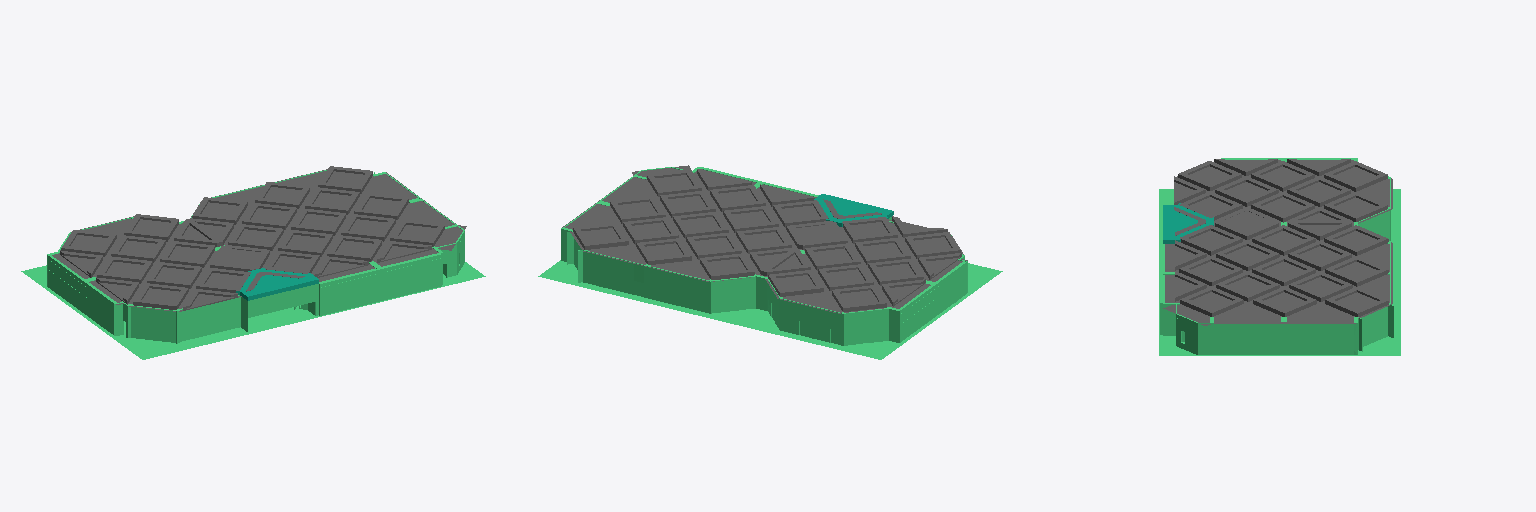
Rendered from fleming-whittle.obj.
3 views of the same model, side by side, from view 1: azimuth 30°, elevation 25°; view 2: azimuth 150°, elevation 25°; view 3: azimuth 270°, elevation 25° (orthographic).
Visible parts, largest first — view 1: ceiling, Main_walls, floor, Line04; view 2: ceiling, Main_walls, floor, Line04; view 3: ceiling, Main_walls, floor, Line04.
Part boxes in pixels (x1,y1,x2,y2): ceiling: (52, 166, 466, 311); Main_walls: (47, 170, 464, 343); floor: (21, 262, 485, 359); Line04: (236, 268, 318, 300); ceiling: (562, 165, 967, 313); Main_walls: (561, 167, 967, 345); floor: (538, 260, 1002, 359); Line04: (814, 194, 893, 226); ceiling: (1163, 159, 1392, 325); Main_walls: (1160, 158, 1393, 354); floor: (1159, 189, 1400, 355); Line04: (1163, 203, 1213, 243).
Bounding box in the file's own units: 53481 × 5460 × 32324.